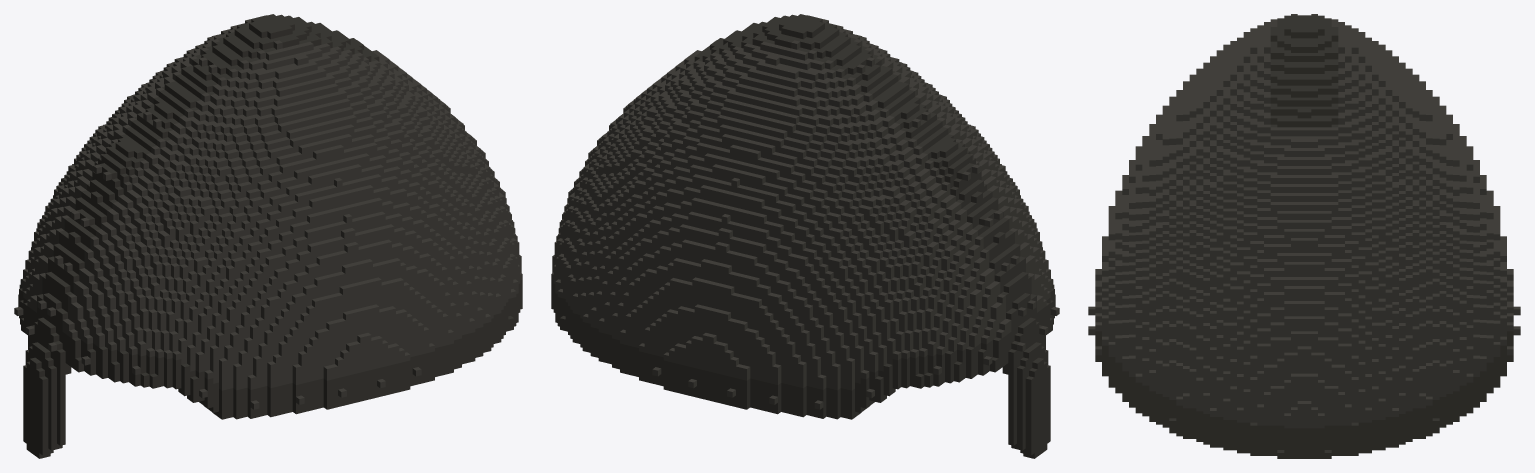
File: Helm_Nasal_Large.obj
3 views of the same model, side by side, from view 1: azimuth 30°, elevation 25°; view 2: azimuth 150°, elevation 25°; view 3: azimuth 270°, elevation 25° (orthographic). The views are drawn at different scales.
Bounding box in the file's own units: 8.4 × 6.4 × 6.4.
1 material, 1 textured.
